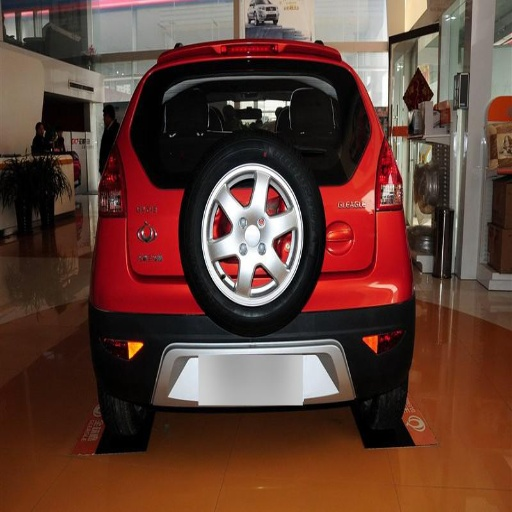back_bumper: (306, 212, 416, 400), (87, 265, 225, 407)
trunk: (117, 136, 191, 305), (322, 173, 390, 273)
